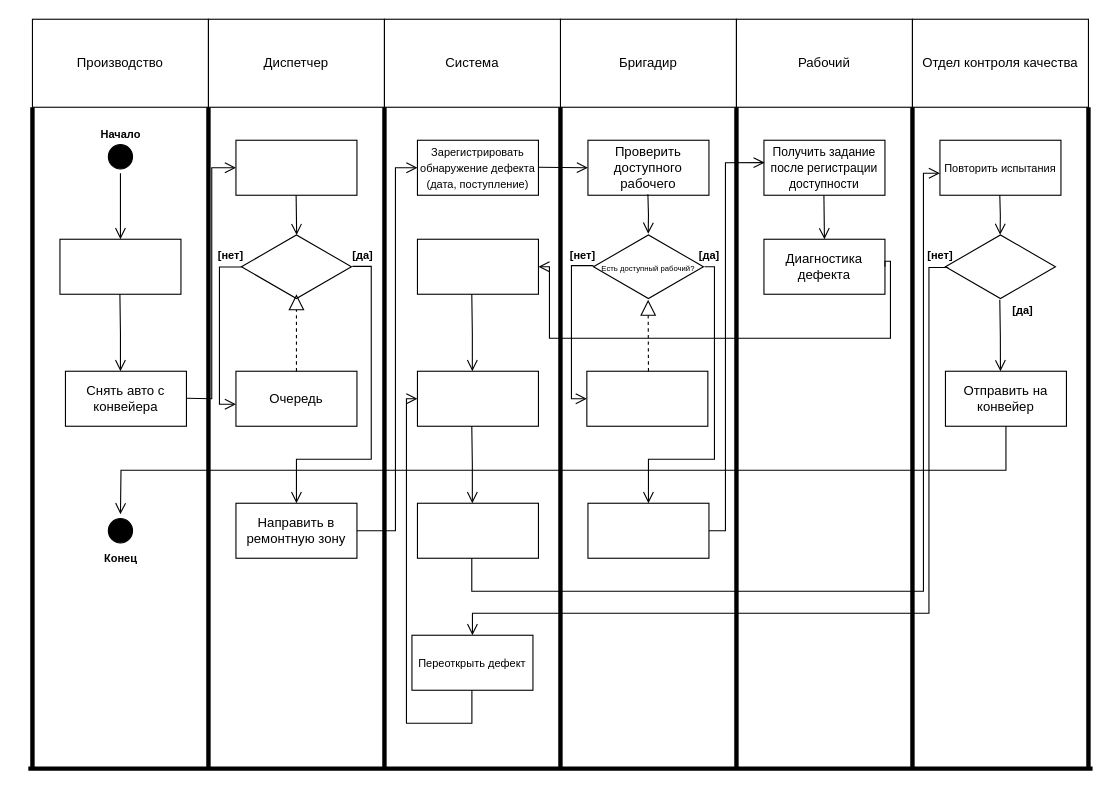
Some shapes in this 1120 by 793 pixel diagram are drawn without their labels. The box of each missing label's shape, as (x1, y1, x2, y2) in pixels:
Выдать задание рабочему: (587, 502, 709, 558)
Есть свободная зона?: (240, 233, 351, 300)
Зафиксировать выполнение ремонта: (416, 502, 538, 558)
Зафиксировать начало ремонта: (416, 370, 538, 426)
Испытания пройдены?: (944, 233, 1055, 300)
Обнаружить дефект: (59, 238, 181, 294)
Ожидание доступности рабочего: (586, 370, 708, 426)
Проверить свободную ремонтную зону: (235, 139, 357, 195)
Регистрация дефекта (место дефекта, причина, номер авто и т. д.): (416, 238, 538, 294)
